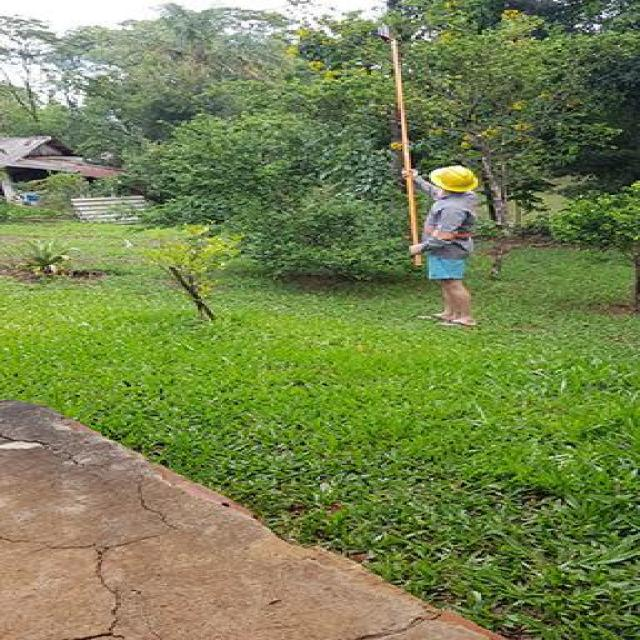helmet: (427, 164, 480, 198)
